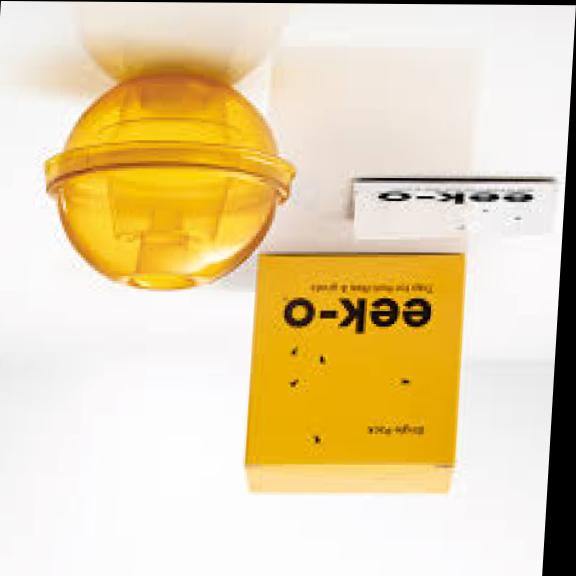Kertas: (233, 257, 464, 492), (346, 177, 552, 237)
Plastik: (39, 81, 277, 297)
